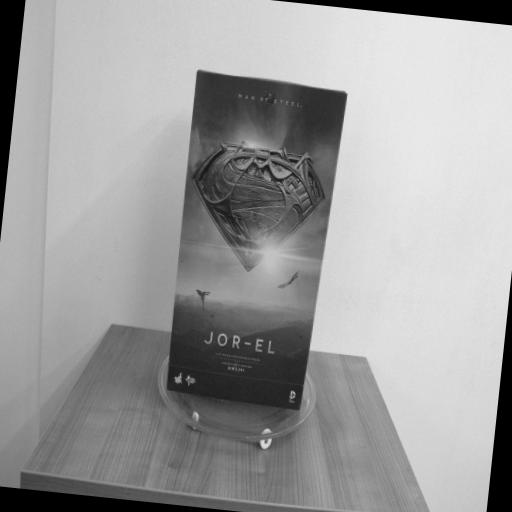superman: (162, 69, 348, 416)
